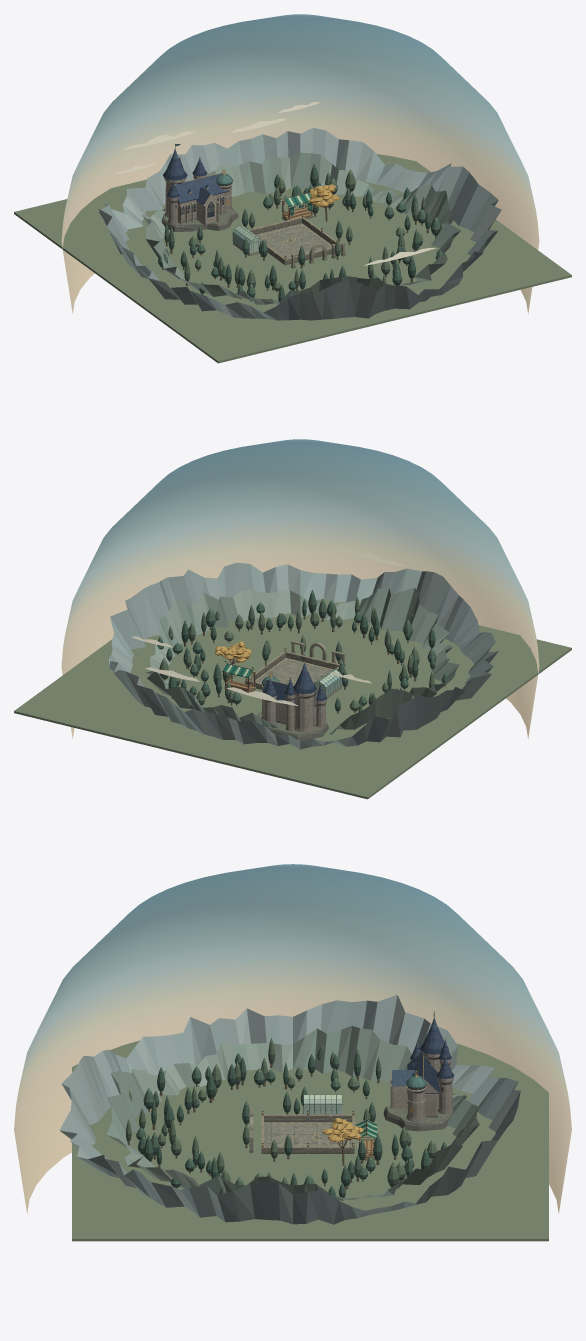
The model's file is patio-de-treino.glb.
The picture shows the model from 3 angles, top to bottom: view 1: azimuth 30°, elevation 25°; view 2: azimuth 150°, elevation 25°; view 3: azimuth 270°, elevation 25°; orthographic projection. The views are drawn at different scales.
Visible parts, largest first — view 1: Firmamento, Jardins do vale, Serras, Castelo, Piso do campo, Muralhas e lanternas, Tribuna da Sonserina, Sorveira do pátio, Estufa de herbologia; view 2: Firmamento, Jardins do vale, Serras, Castelo, Piso do campo, Muralhas e lanternas, Tribuna da Sonserina, Sorveira do pátio, Estufa de herbologia; view 3: Firmamento, Jardins do vale, Serras, Castelo, Piso do campo, Muralhas e lanternas, Estufa de herbologia, Sorveira do pátio.
Boxes of the visible parts, <box> form: Firmamento: <box>61,14,539,313</box>; Jardins do vale: <box>14,154,571,363</box>; Serras: <box>98,127,501,320</box>; Castelo: <box>161,143,238,231</box>; Piso do campo: <box>255,223,331,264</box>; Muralhas e lanternas: <box>246,213,341,265</box>; Tribuna da Sonserina: <box>279,192,313,220</box>; Sorveira do pátio: <box>309,184,339,221</box>; Estufa de herbologia: <box>232,224,262,256</box>; Firmamento: <box>61,439,539,738</box>; Jardins do vale: <box>14,590,571,799</box>; Serras: <box>109,562,498,749</box>; Castelo: <box>257,657,328,740</box>; Piso do campo: <box>255,657,333,688</box>; Muralhas e lanternas: <box>244,648,340,689</box>; Tribuna da Sonserina: <box>222,661,257,692</box>; Sorveira do pátio: <box>214,641,251,678</box>; Estufa de herbologia: <box>313,668,342,698</box>; Firmamento: <box>14,864,571,1213</box>; Jardins do vale: <box>72,1038,548,1241</box>; Serras: <box>59,994,520,1224</box>; Castelo: <box>383,1011,454,1131</box>; Piso do campo: <box>264,1122,351,1153</box>; Muralhas e lanternas: <box>261,1111,354,1153</box>; Estufa de herbologia: <box>303,1093,342,1114</box>; Sorveira do pátio: <box>322,1118,364,1165</box>.
Size of the model in its own units: 95.96 by 62.64 by 95.96.
5 materials, 1 textured.
